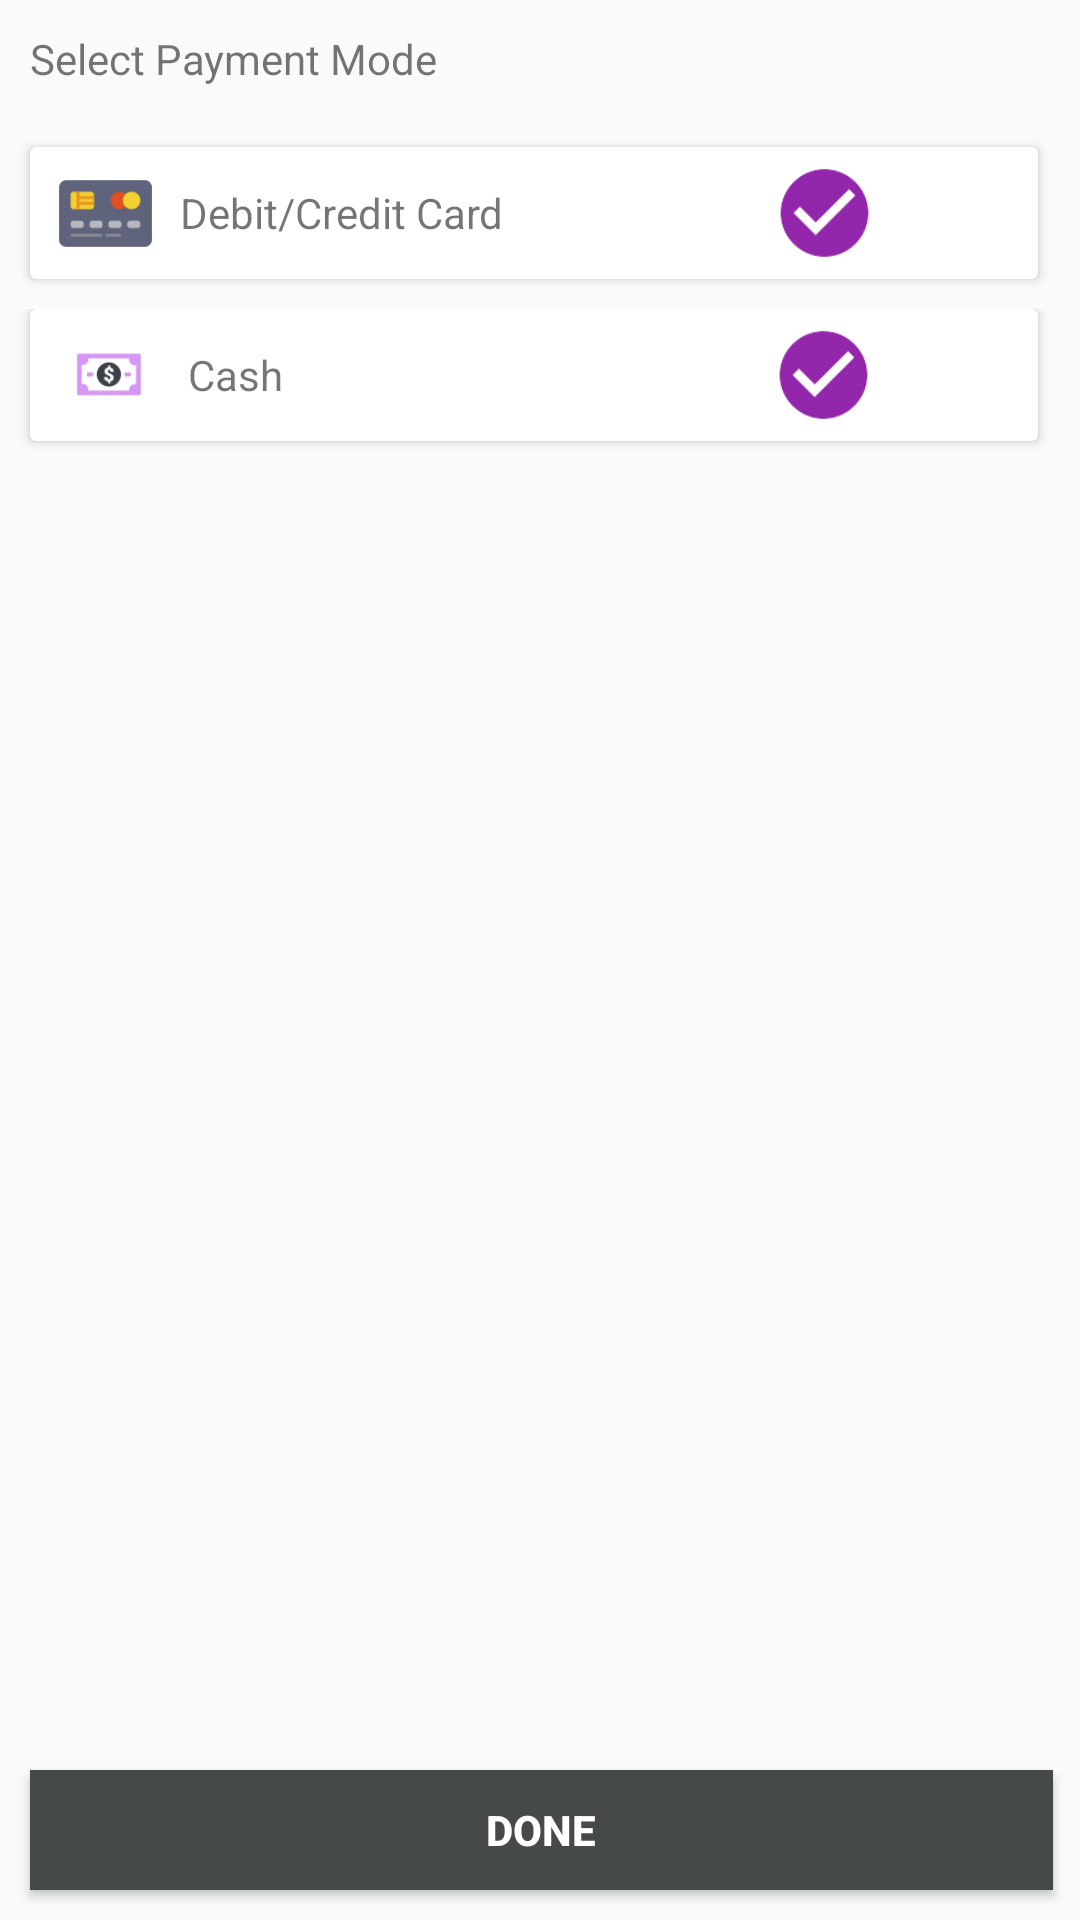

Icons on this 1080px x 1920px Android screen, each with the point to tap as [x,y]:
dolar: [109,374]
